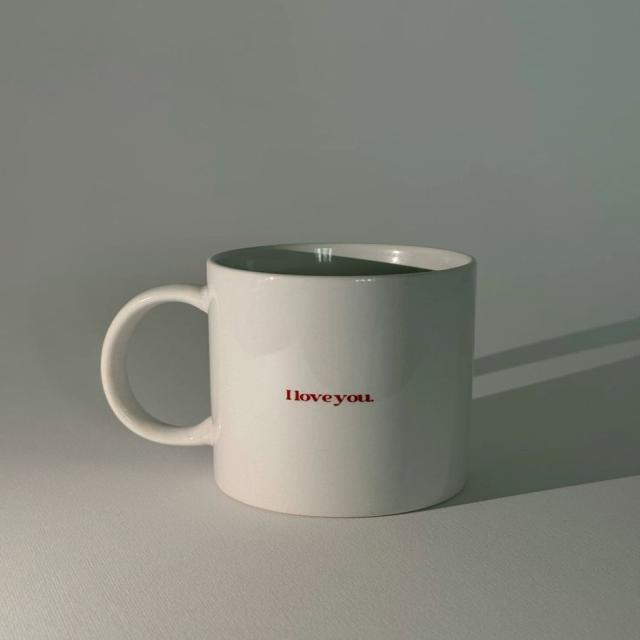glass cup: (102, 241, 479, 518)
